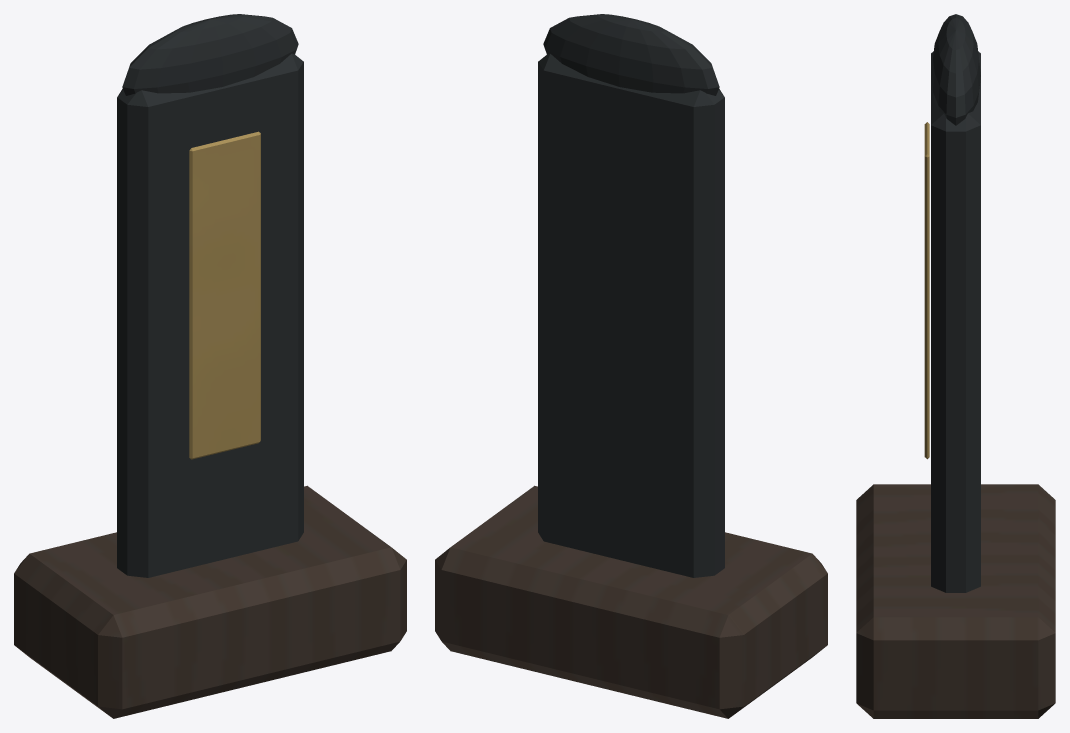
File: PR_MemorialTablet.glb
The picture shows the model from 3 angles, left to right: view 1: azimuth 30°, elevation 25°; view 2: azimuth 150°, elevation 25°; view 3: azimuth 270°, elevation 25°; orthographic projection. The views are drawn at different scales.
Visible parts, largest first — view 1: PR_MemorialTablet; view 2: PR_MemorialTablet; view 3: PR_MemorialTablet.
Boxes of the visible parts, <box> form: PR_MemorialTablet: <box>14,14,406,718</box>; PR_MemorialTablet: <box>435,14,827,718</box>; PR_MemorialTablet: <box>856,14,1055,718</box>.
Bounding box in the file's own units: 0.28 × 0.55 × 0.16.
Materials: 3 (2 with a texture image).
